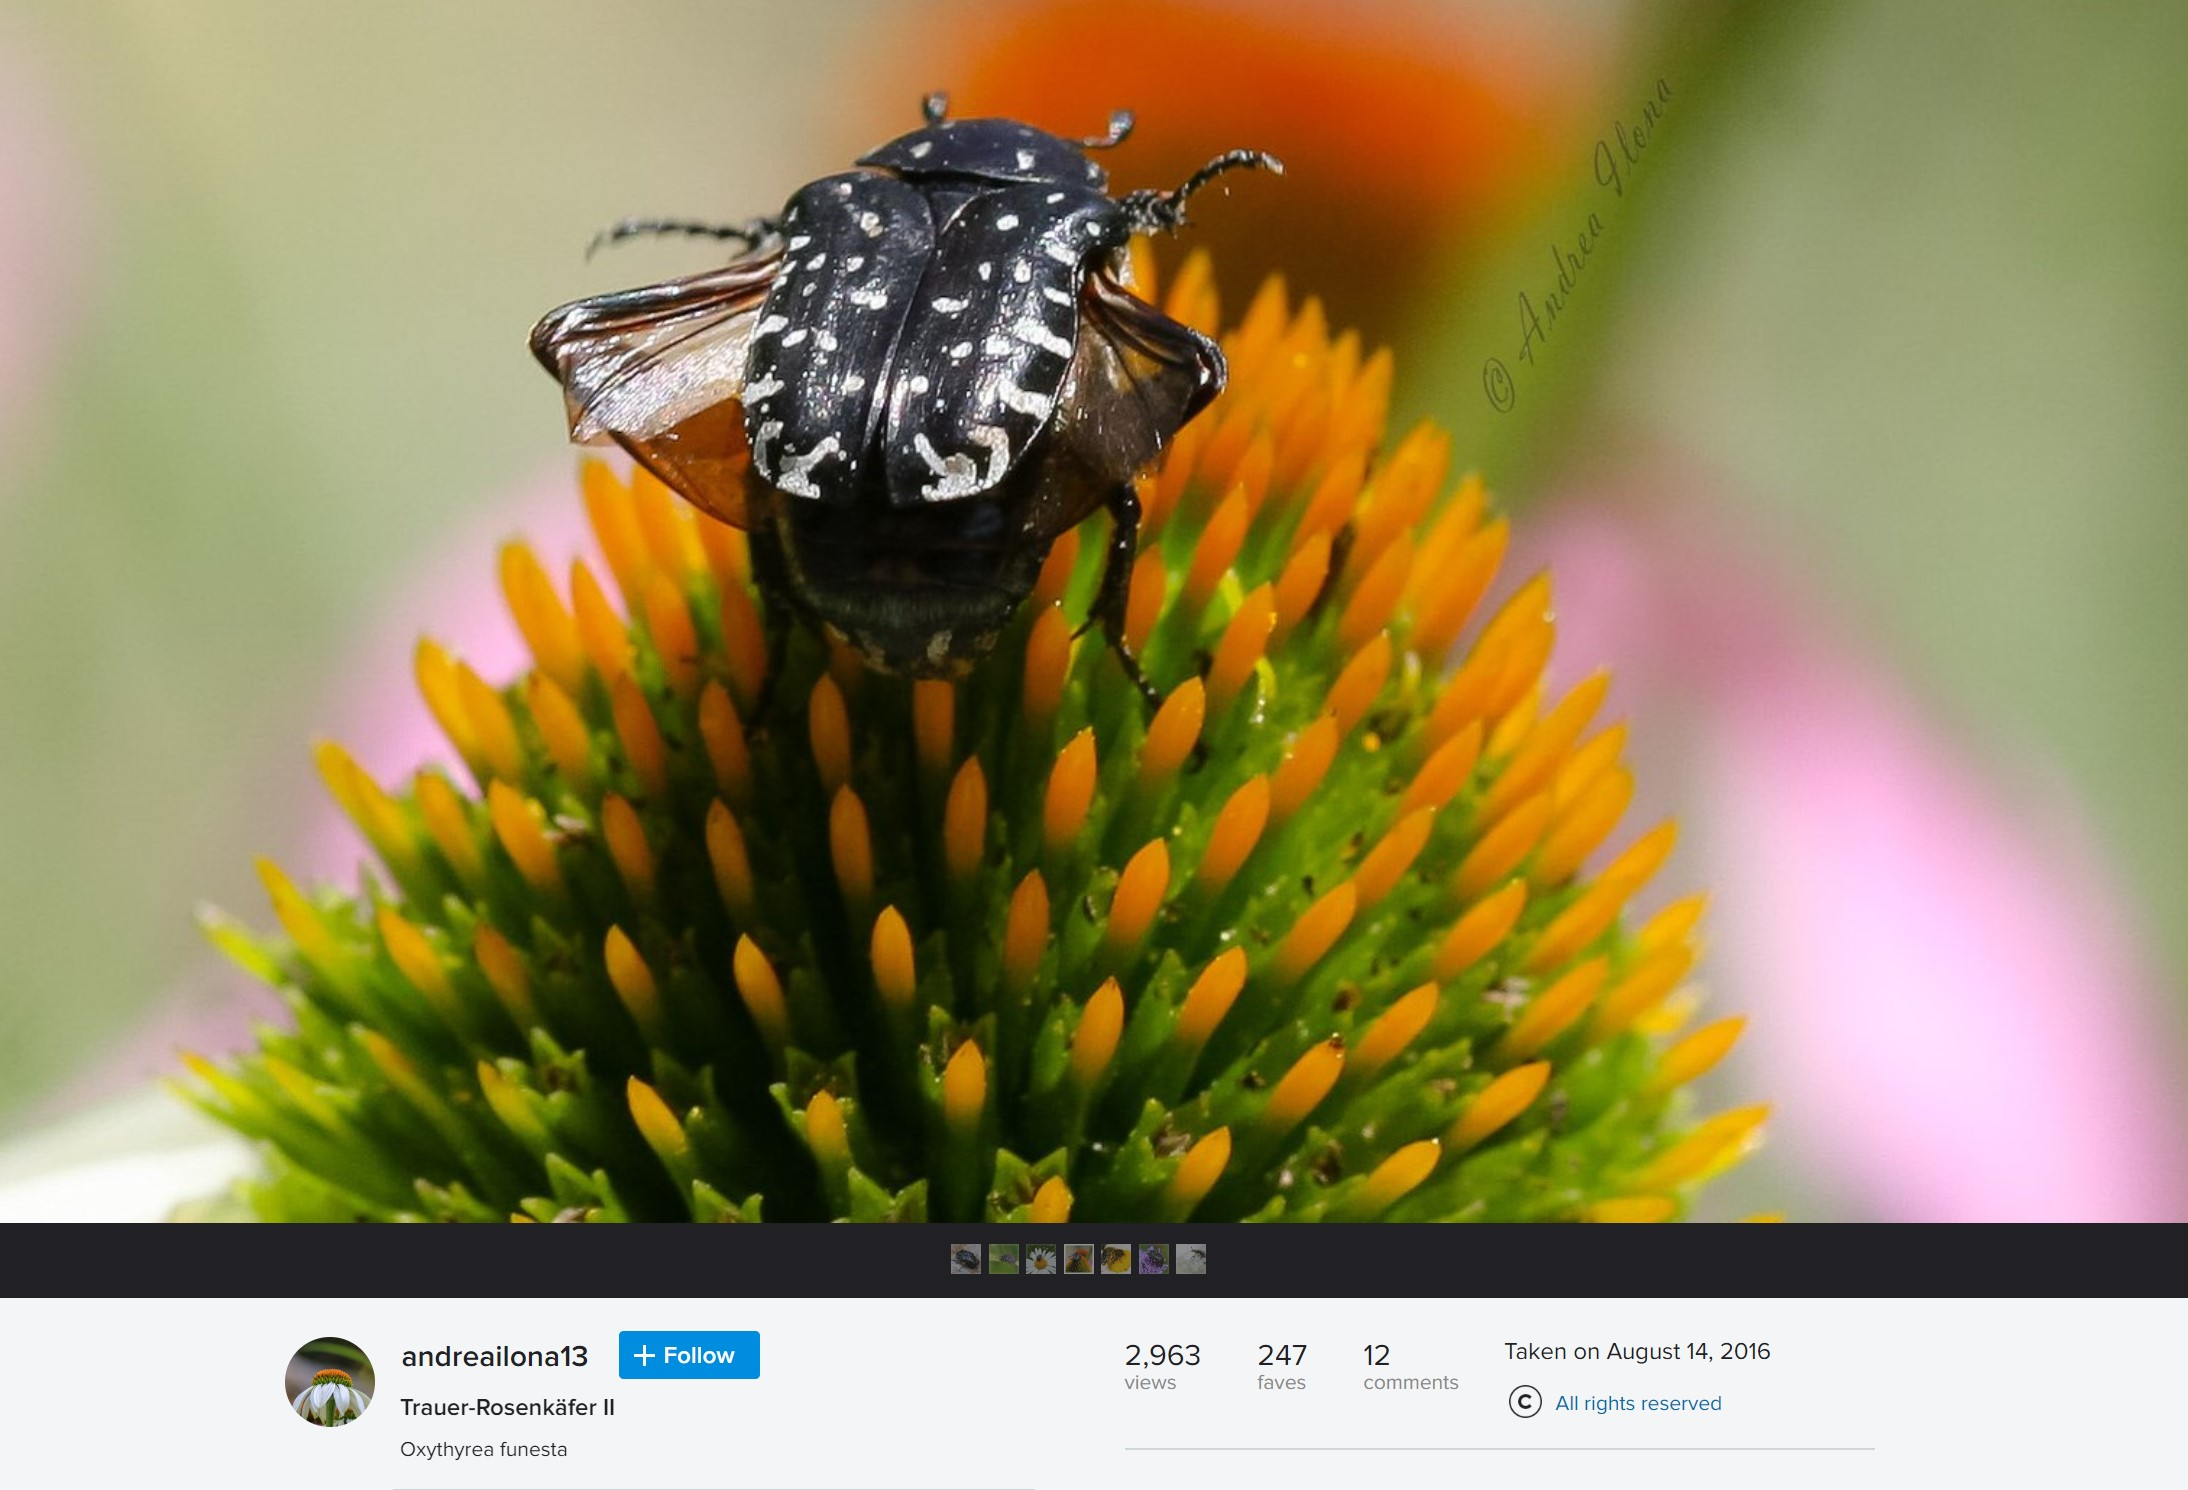Oxythyrea_funesta: (708, 73, 1194, 687)
